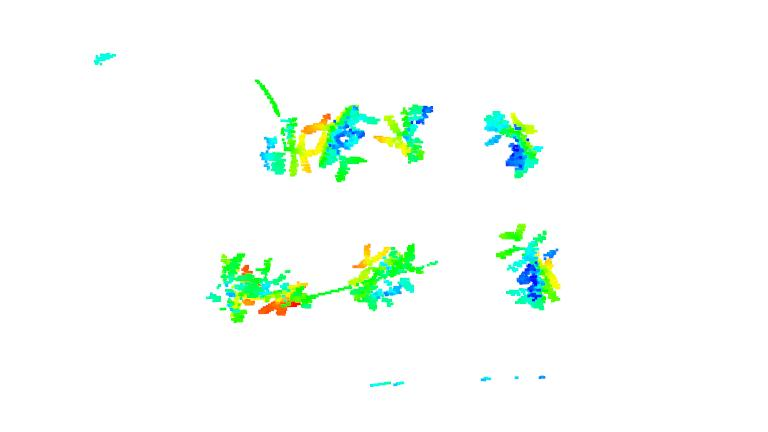chickpea: (493, 222, 562, 312), (347, 240, 421, 313), (304, 104, 371, 183), (481, 107, 545, 182), (374, 103, 436, 164), (256, 115, 314, 178), (207, 250, 256, 323), (257, 256, 312, 318)
